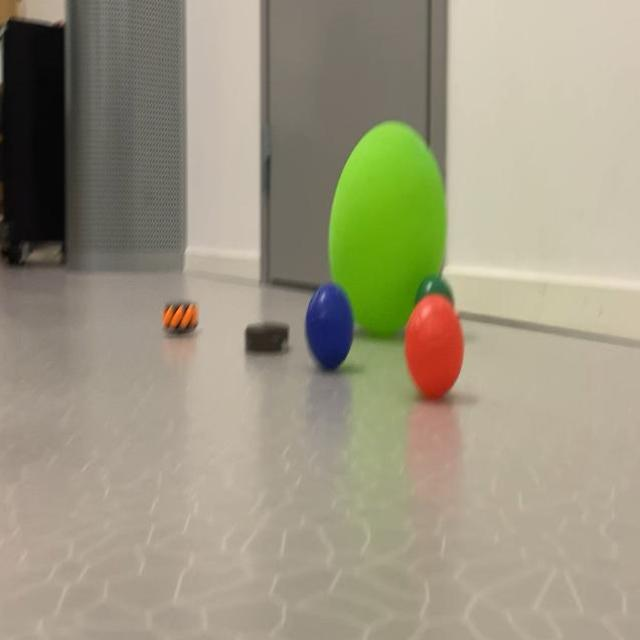blue ball: (306, 293, 357, 376)
green ball: (421, 280, 458, 296)
red ball: (406, 310, 465, 409)
